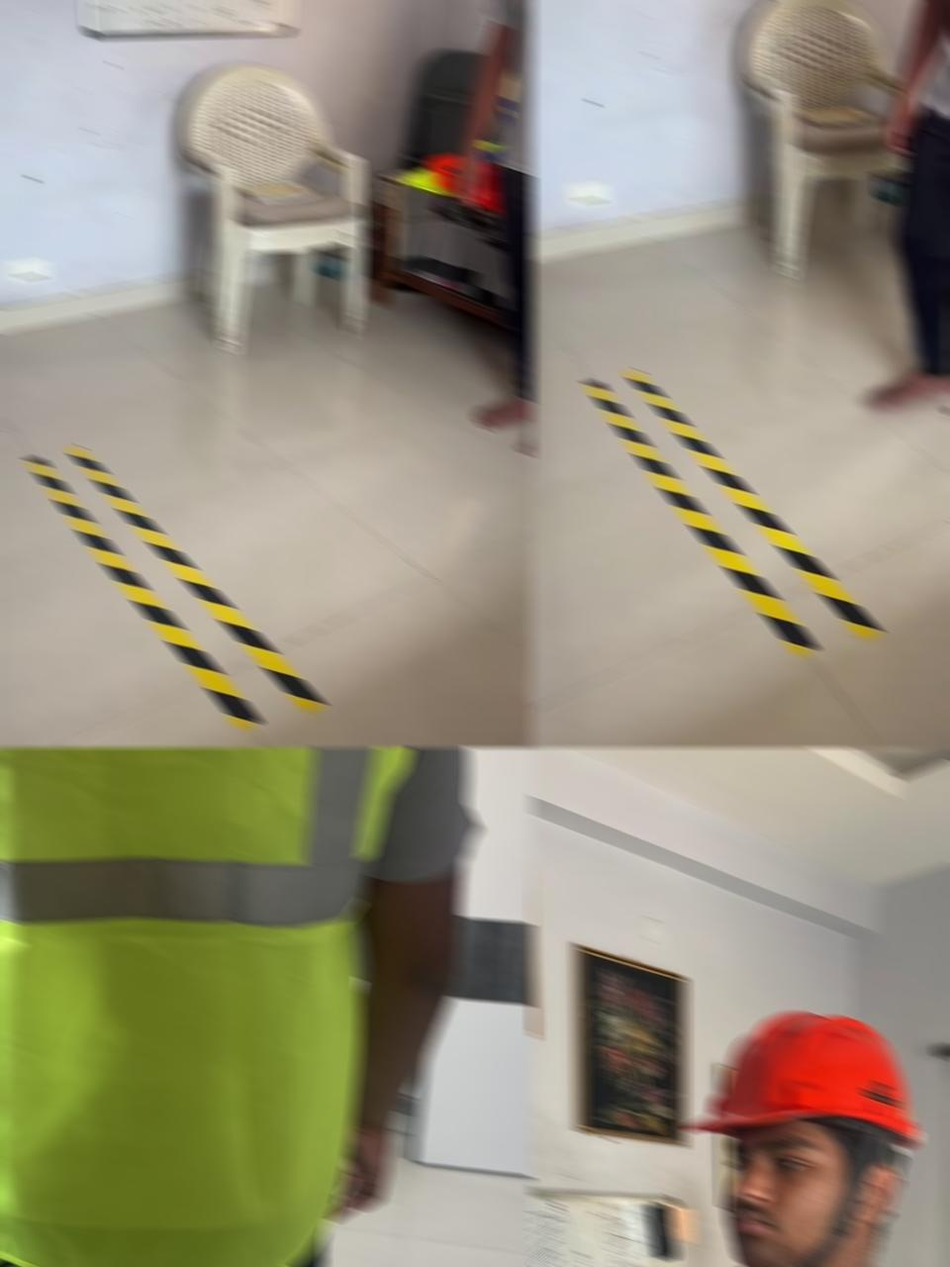BorderLine: (580, 368, 884, 657), (23, 444, 328, 731)
Helmet: (684, 1011, 921, 1146)
No_Vest: (476, 0, 533, 182)
Person: (0, 746, 482, 1267), (560, 1007, 950, 1267), (857, 0, 950, 425), (450, 0, 533, 463)
Vest: (0, 746, 427, 1267)
